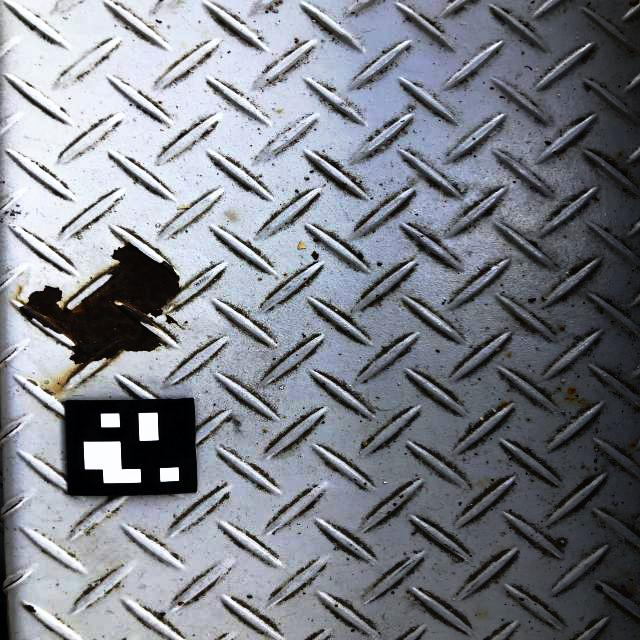Corrosion: (15, 240, 186, 380), (25, 605, 37, 614), (567, 386, 577, 395)
